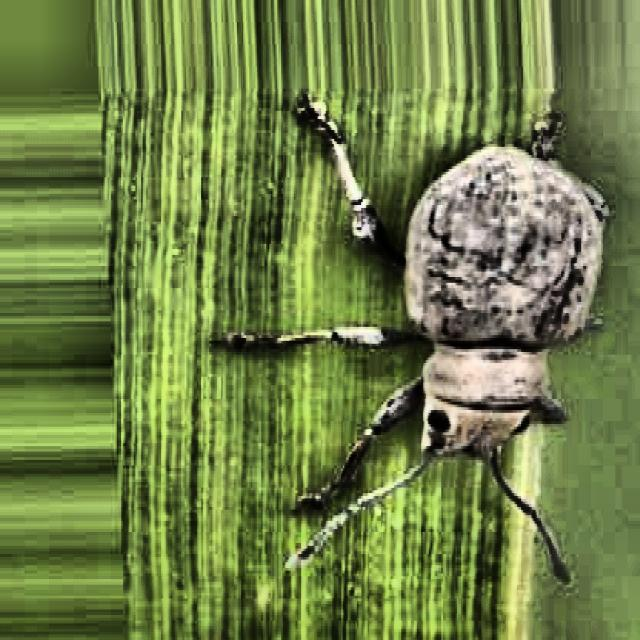Stink bug: (318, 51, 620, 545)
